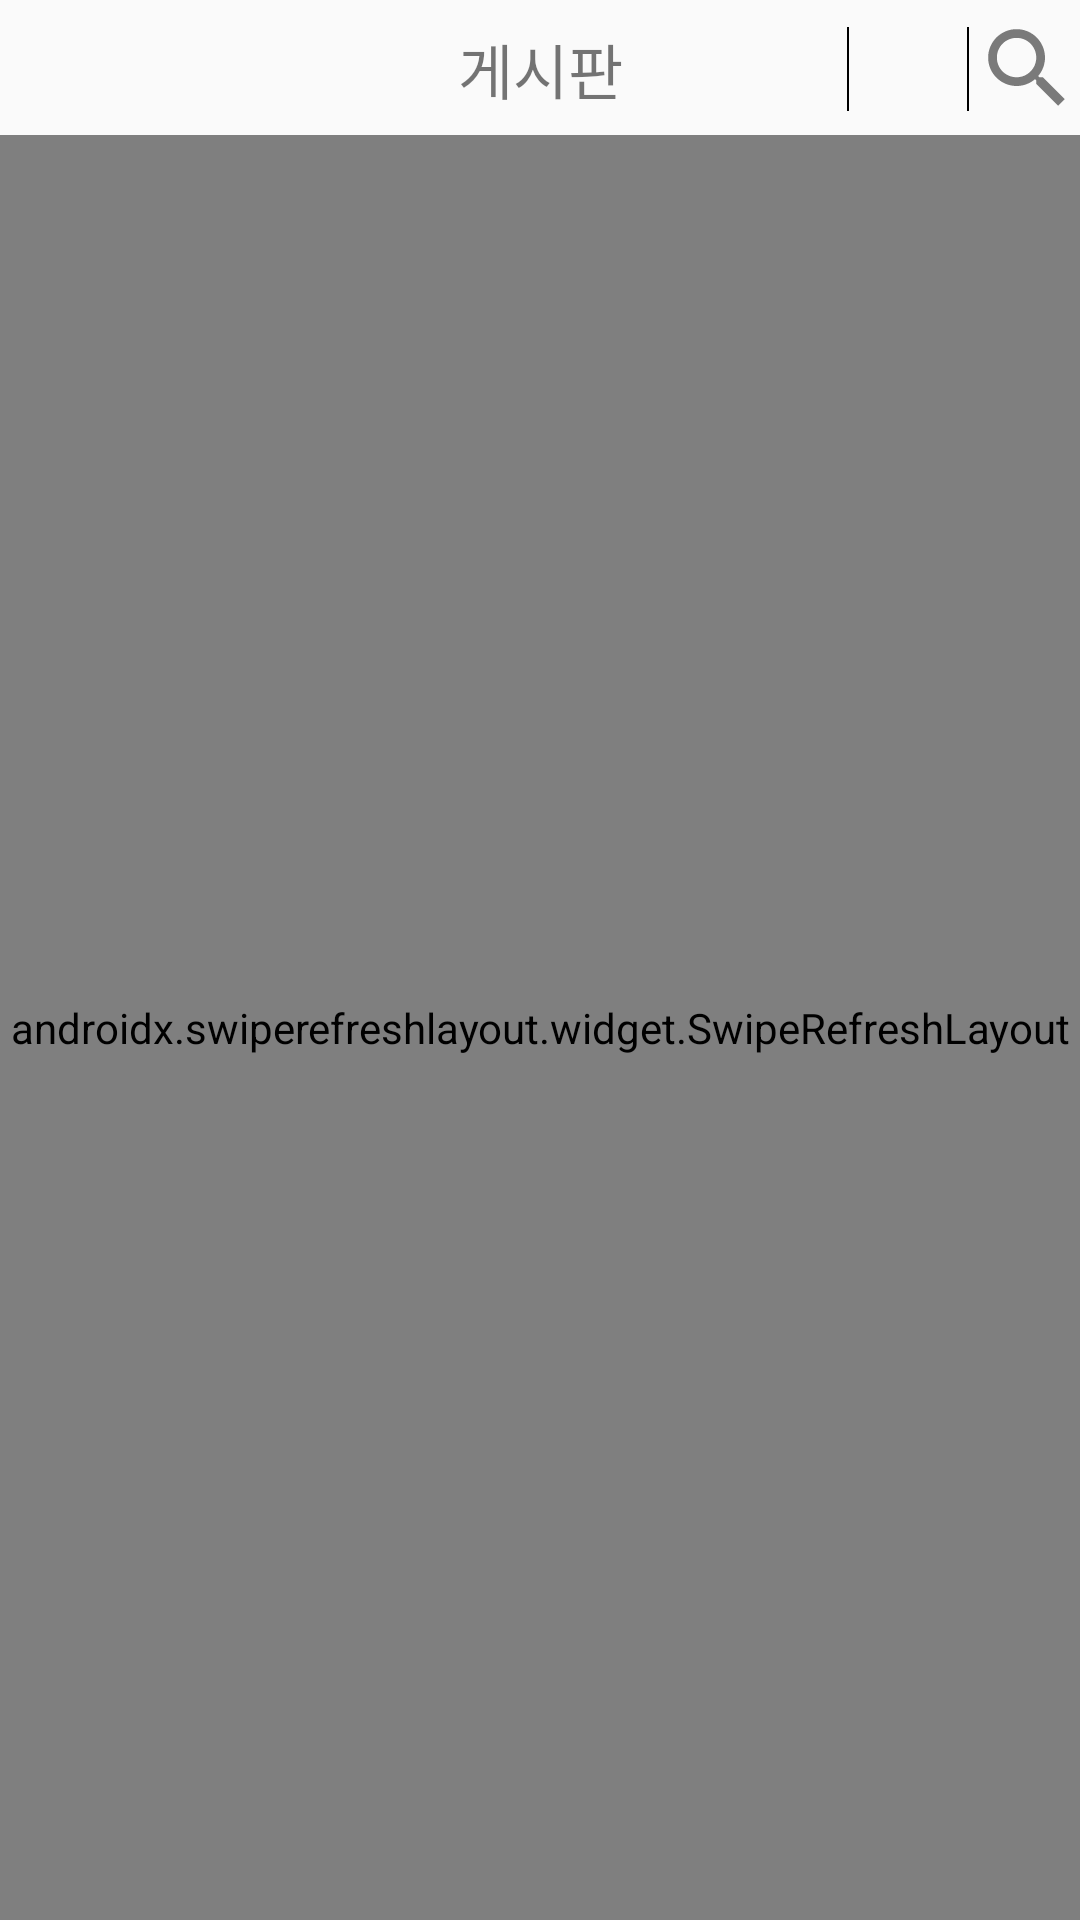

Locate icon controls on the screen. Image size 1080 x 1920, boxes as (x1, y1, x2, y2).
forums search: (988, 29, 1065, 106)
